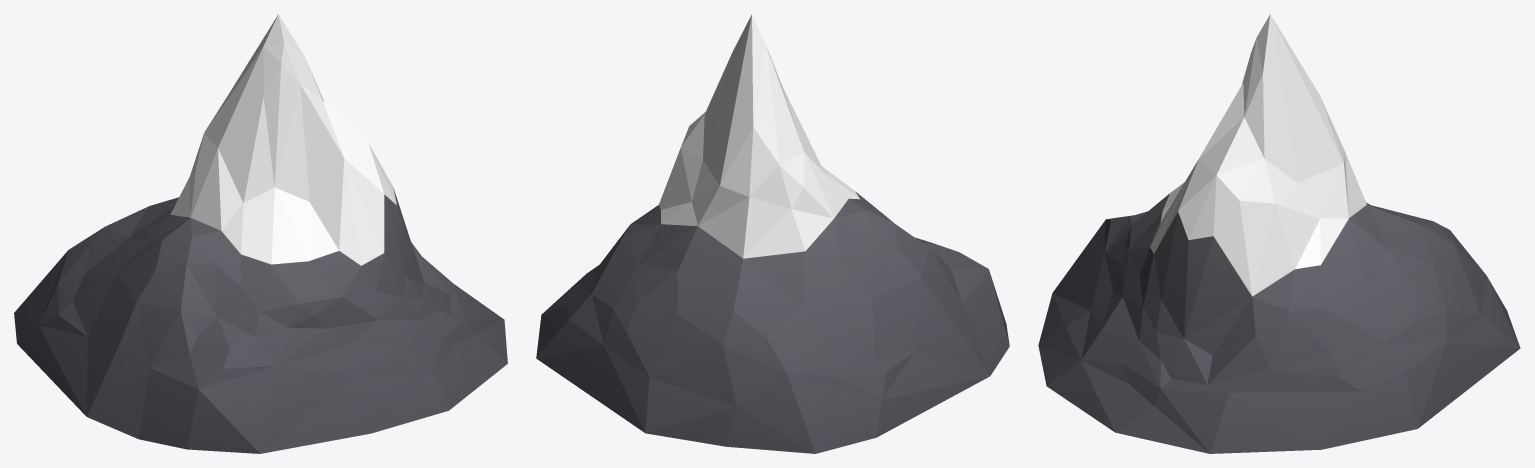
Rendered from Mountain_02.glb.
3 renders of one model, left to right at view 1: azimuth 30°, elevation 25°; view 2: azimuth 150°, elevation 25°; view 3: azimuth 270°, elevation 25°, orthographic. The views are drawn at different scales.
Visible parts, largest first — view 1: Mountain_02; view 2: Mountain_02; view 3: Mountain_02.
Boxes of the visible parts, left/top/right/bottom form: Mountain_02: left=14, top=14, right=507, bottom=453; Mountain_02: left=536, top=14, right=1009, bottom=453; Mountain_02: left=1038, top=14, right=1520, bottom=453.
Bounding box in the file's own units: 60.97 × 46.84 × 59.96.
Materials: 1 (1 with a texture image).
